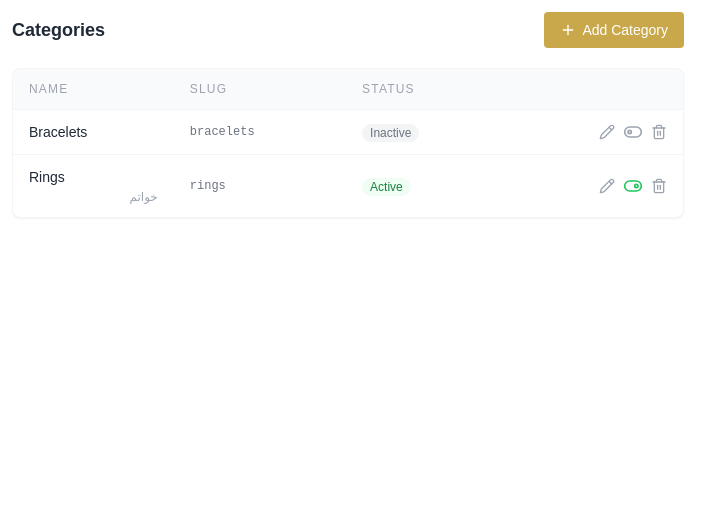
categories in English is unchanged › keeps the copy the screen had before the strings moved
Expected: the heading "Categories" is shown, 12,16 -> 105,44
Step 1. Click the button "Add Category" → (614, 30), box 544,12 -> 684,48
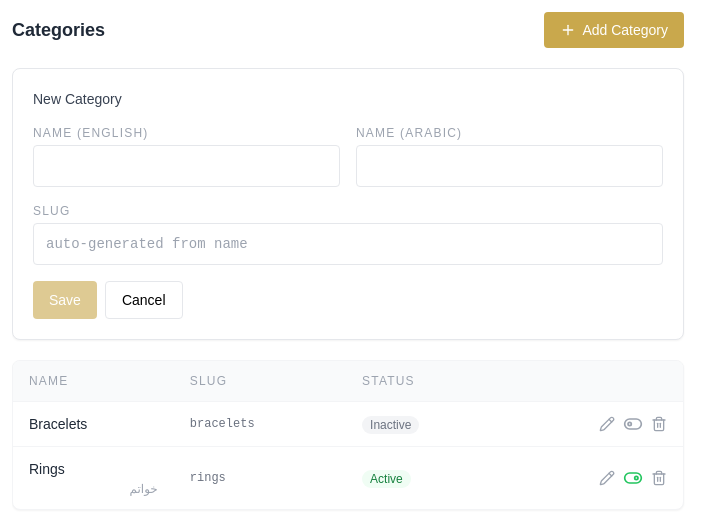
Expected: the text "Active" is shown, 362,470 -> 411,488
Expected: the text "New Category" is shown, 33,91 -> 122,107
Expected: the button "Save" is shown, 33,281 -> 97,319
Step 2. Click the button named "Edit: Rings" → (607, 478), box 599,470 -> 615,486
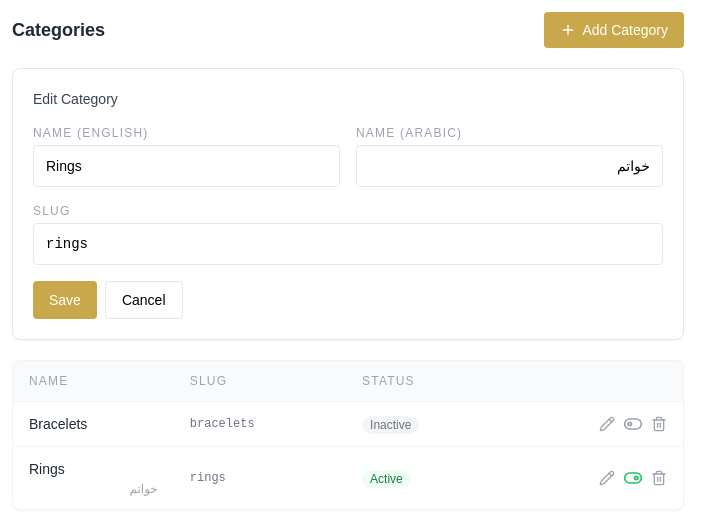
Expected: the text "Edit Category" is shown, 33,91 -> 118,107
